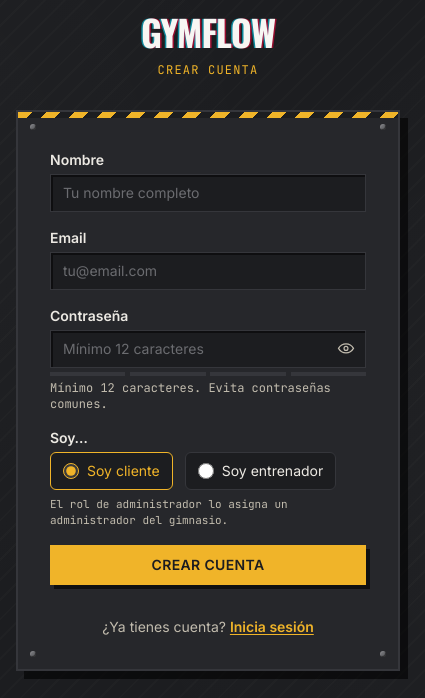
Scenario: RegisterPage › "Password1" da medidor nivel 2 "Aceptable" y submit rechaza localmente
Type "Ana" into the field labelled "Nombre".
click(208, 192); type("Ana")  # box [50, 174, 366, 212]
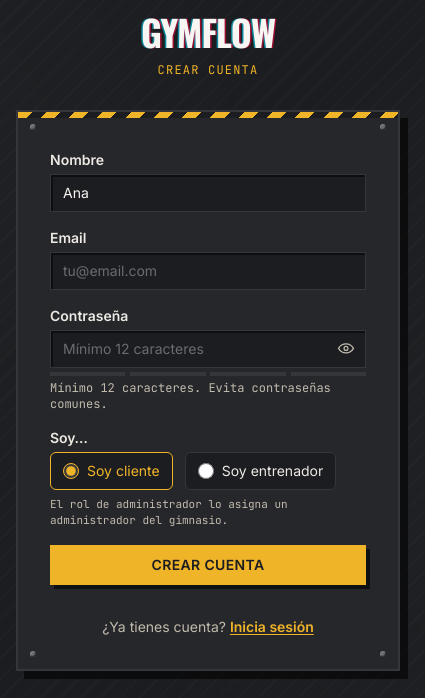
Type "ana@mail.com" into the field labelled "Email".
click(208, 270); type("ana@mail.com")  # box [50, 252, 366, 290]
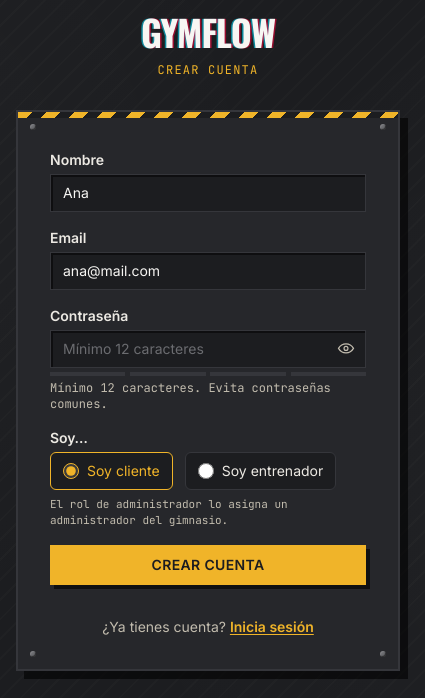
Type "Password1" into the password field labelled "Contraseña".
click(208, 348); type("Password1")  # box [50, 330, 366, 368]
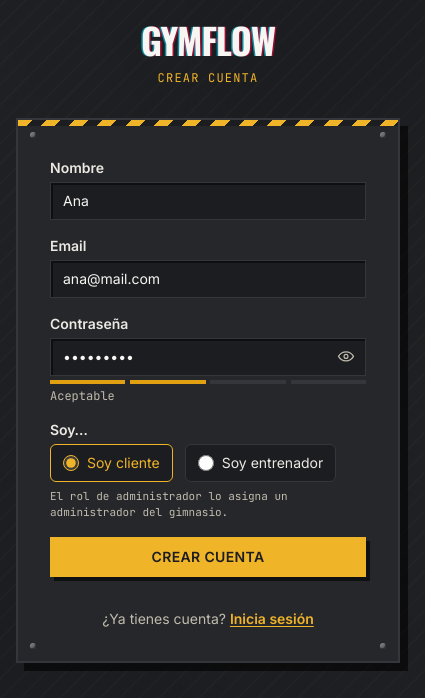
Now the text "Aceptable" is shown, box [50, 388, 115, 404]
Click the button "Crear cuenta".
click(208, 556)  # box [50, 536, 366, 576]
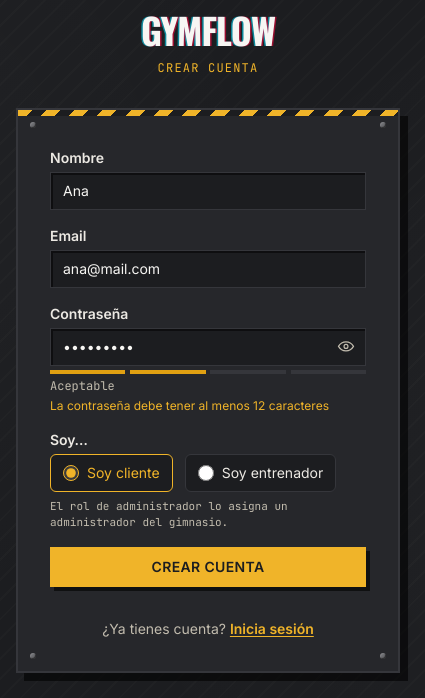
Now the text "La contraseña debe tener al menos 12 caracteres" is shown, box [50, 398, 366, 414]
